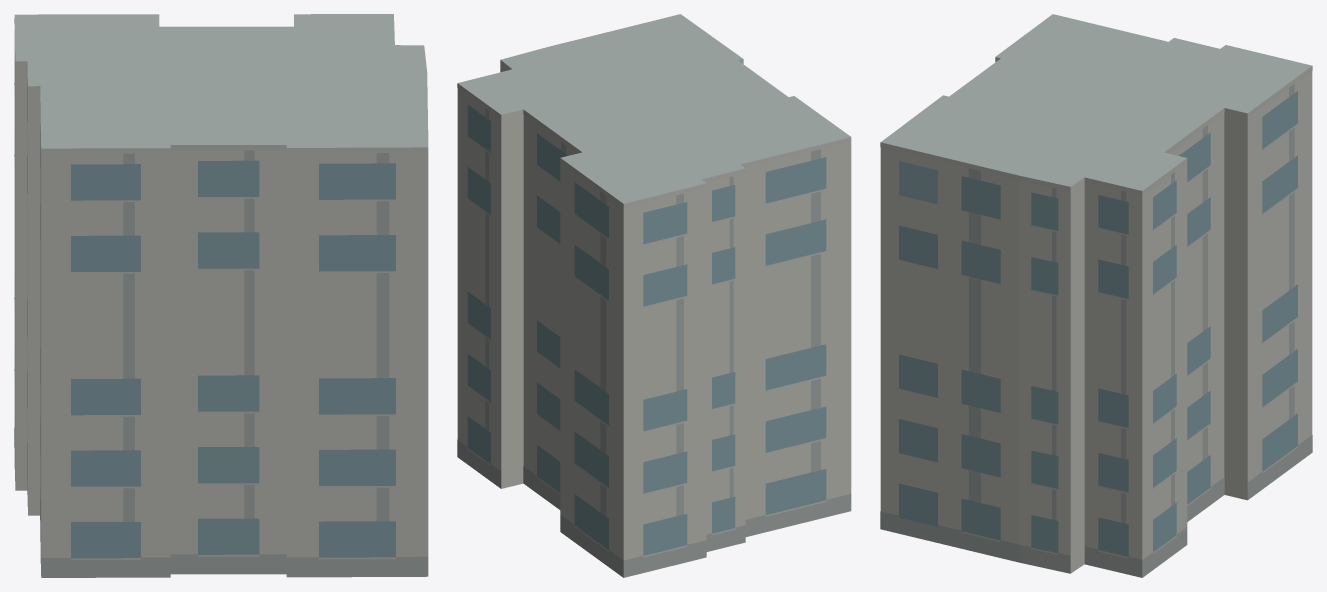
File: survey-upis-32592643.glb
3 views of the same model, side by side, from view 1: azimuth 30°, elevation 25°; view 2: azimuth 150°, elevation 25°; view 3: azimuth 270°, elevation 25° (orthographic). The views are drawn at different scales.
Parts seen in each view (by area): view 1: survey-upis-32592643.tmp; view 2: survey-upis-32592643.tmp; view 3: survey-upis-32592643.tmp.
Part boxes in pixels (box(x1,y1,x2,y2)): survey-upis-32592643.tmp: box(14, 14, 428, 577); survey-upis-32592643.tmp: box(457, 14, 851, 577); survey-upis-32592643.tmp: box(880, 14, 1312, 577).
Size of the model in its own units: 18.94 by 19.3 by 19.54.
